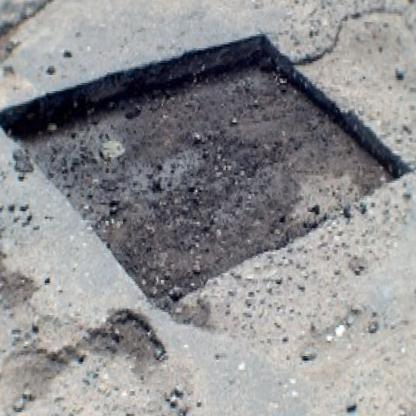pothole: (0, 24, 415, 320)
